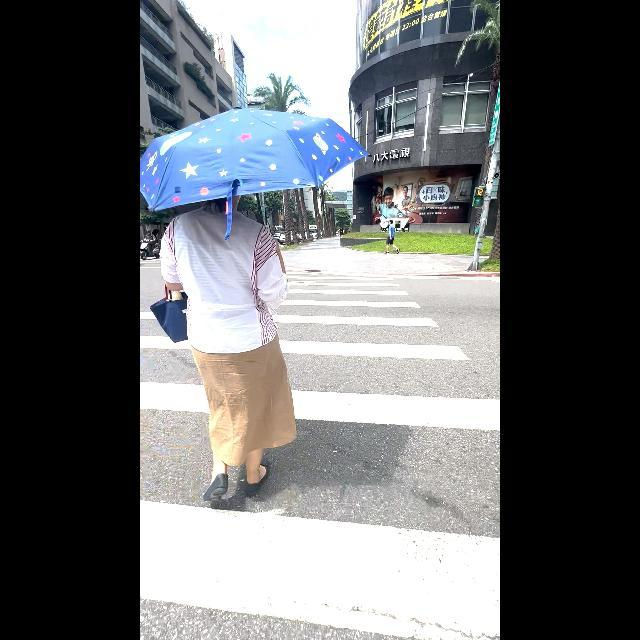sidewalk: (140, 262, 500, 640)
